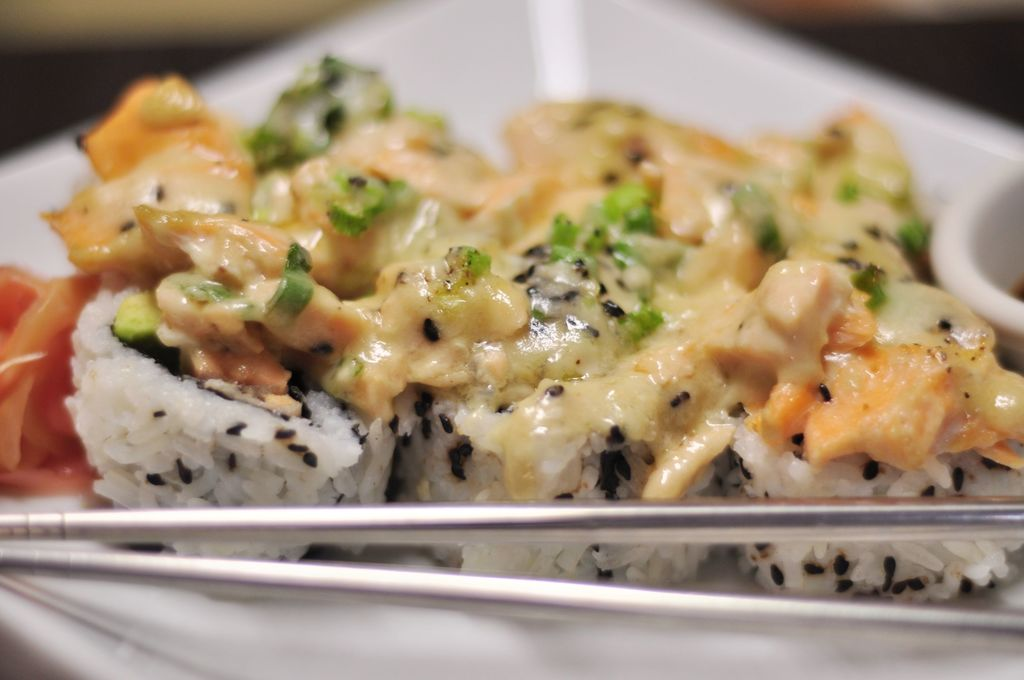sushi: (42, 61, 1022, 594), (58, 250, 367, 508)
